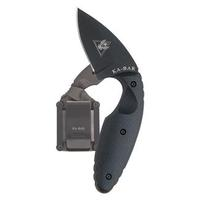knife: (62, 3, 146, 200)
